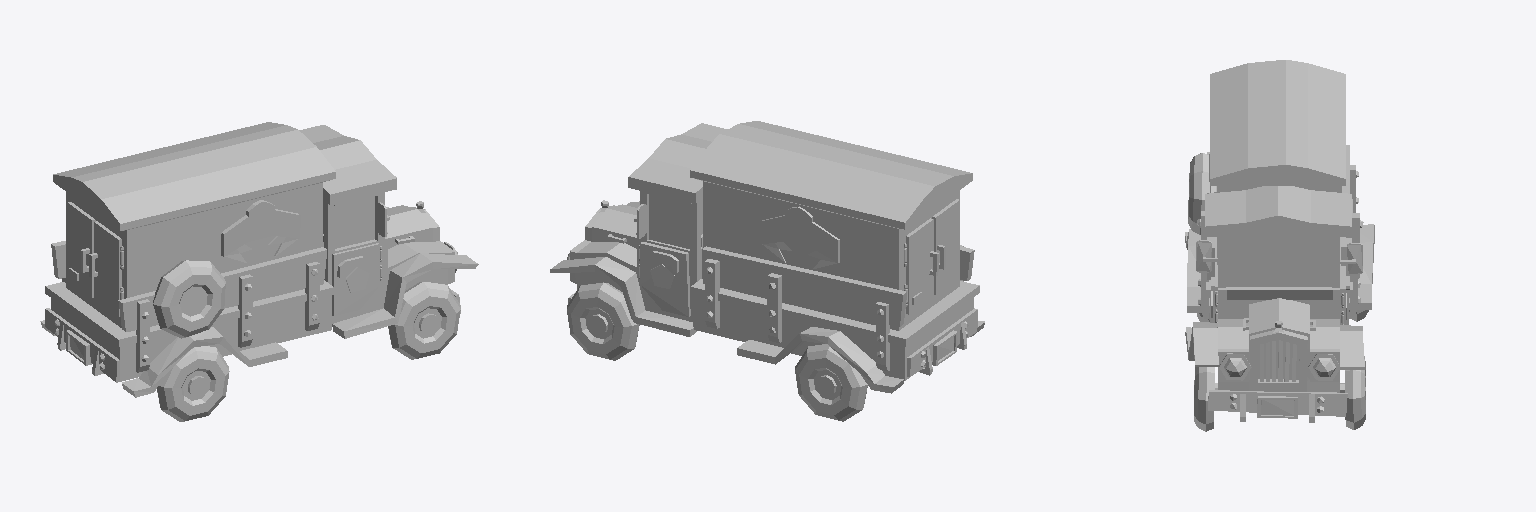
File: car.obj
The picture shows the model from 3 angles: view 1: azimuth 30°, elevation 25°; view 2: azimuth 150°, elevation 25°; view 3: azimuth 270°, elevation 25°; orthographic projection.
Parts seen in each view (by area): view 1: group[number redacted], group[number redacted], group[number redacted], group[number redacted], group[number redacted], group[number redacted], group[number redacted], group[number redacted], group[number redacted], group[number redacted], group[number redacted], group[number redacted] (+8 smaller); view 2: group[number redacted], group[number redacted], group[number redacted], group[number redacted], group[number redacted], group[number redacted], group[number redacted], group[number redacted], group[number redacted], group[number redacted], group[number redacted], group[number redacted] (+8 smaller); view 3: group[number redacted], group[number redacted], group[number redacted], group[number redacted], group[number redacted], group[number redacted], group[number redacted], group[number redacted], group[number redacted], group[number redacted], group[number redacted], group[number redacted] (+8 smaller).
Boxes of the visible parts, x1,y1,x2,y2 form: group[number redacted]: [53, 122, 335, 331]; group[number redacted]: [45, 280, 333, 381]; group[number redacted]: [153, 260, 225, 338]; group[number redacted]: [324, 205, 454, 323]; group[number redacted]: [388, 282, 460, 359]; group[number redacted]: [157, 346, 229, 421]; group[number redacted]: [299, 125, 396, 205]; group[number redacted]: [118, 247, 326, 331]; group[number redacted]: [332, 253, 478, 338]; group[number redacted]: [122, 327, 287, 397]; group[number redacted]: [221, 200, 300, 262]; group[number redacted]: [332, 243, 379, 315]; group[number redacted]: [690, 121, 972, 330]; group[number redacted]: [691, 279, 979, 380]; group[number redacted]: [702, 246, 906, 326]; group[number redacted]: [567, 282, 639, 360]; group[number redacted]: [570, 204, 702, 321]; group[number redacted]: [795, 344, 867, 421]; group[number redacted]: [628, 123, 727, 203]; group[number redacted]: [737, 327, 903, 393]; group[number redacted]: [760, 206, 839, 268]; group[number redacted]: [550, 257, 696, 336]; group[number redacted]: [640, 242, 690, 316]; group[number redacted]: [906, 218, 933, 314]; group[number redacted]: [1210, 60, 1345, 264]; group[number redacted]: [1205, 186, 1351, 237]; group[number redacted]: [1218, 287, 1339, 392]; group[number redacted]: [1226, 241, 1331, 286]; group[number redacted]: [1208, 390, 1347, 422]; group[number redacted]: [1250, 330, 1307, 391]; group[number redacted]: [1185, 322, 1219, 366]; group[number redacted]: [1188, 153, 1209, 234]; group[number redacted]: [1345, 356, 1365, 429]; group[number redacted]: [1227, 289, 1332, 299]; group[number redacted]: [1194, 367, 1214, 431]; group[number redacted]: [1349, 224, 1374, 309].
Size of the model in its own units: 1.02 by 0.6127 by 0.4675.